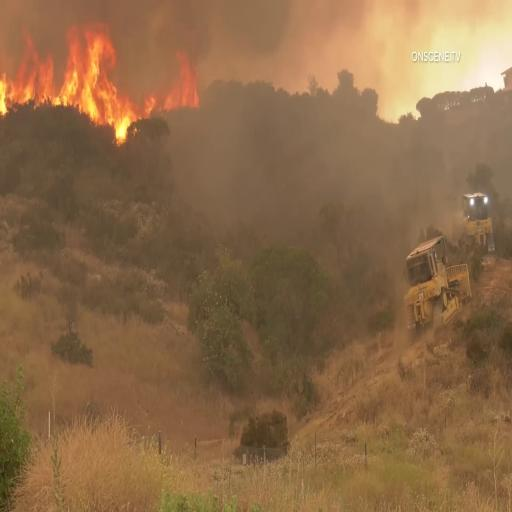fire: (57, 2, 109, 120), (105, 58, 193, 123), (4, 45, 59, 116)
